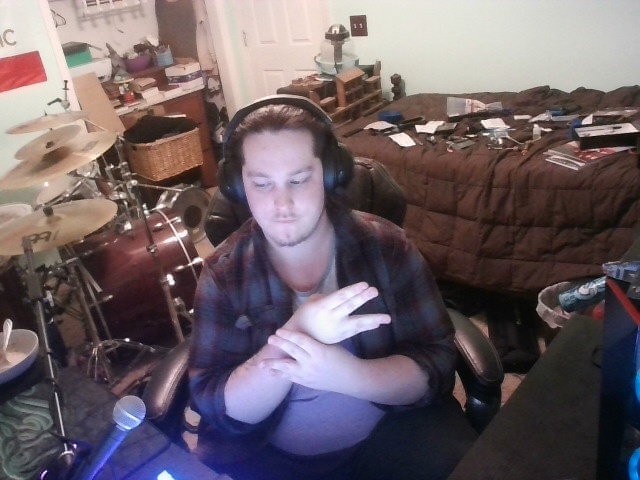world: (241, 278, 405, 394)
